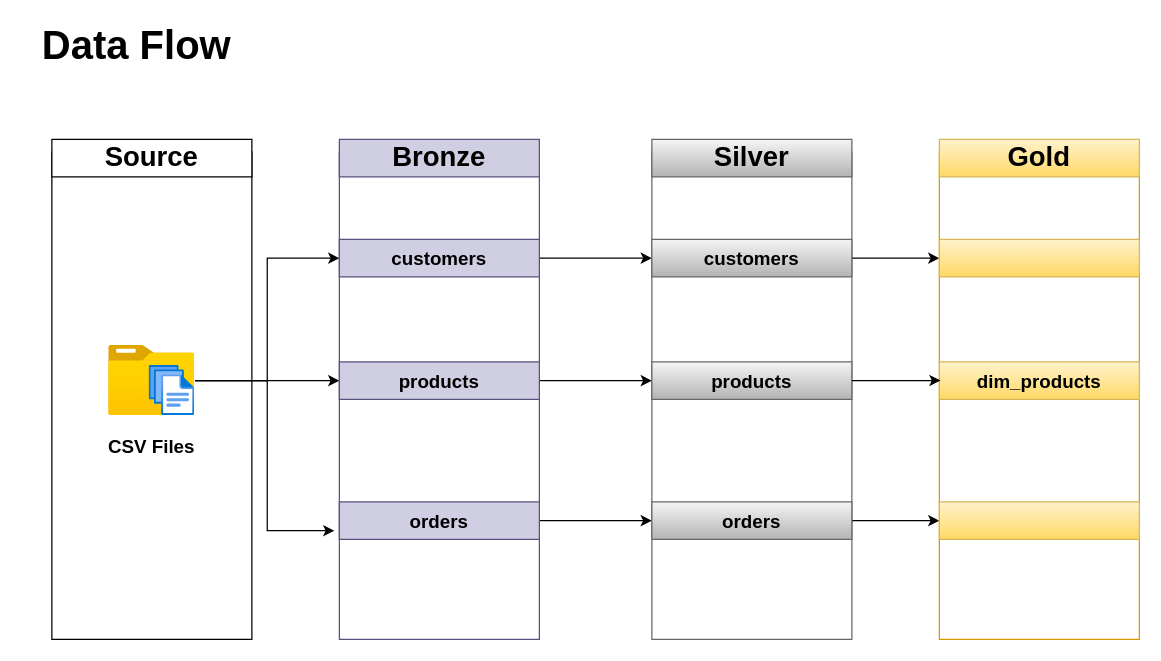
This 1161x661 diagram has some shape labels left out. The centre of each missing label's shape, as x and y in pixels:
dim_customers: point (1038, 257)
fact_orders: point (1038, 520)
